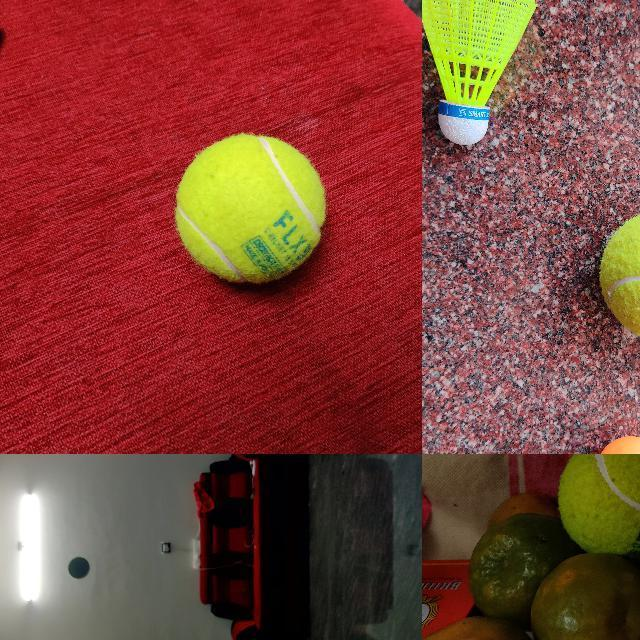tennis-ball: (174, 132, 326, 283), (557, 454, 639, 552), (598, 209, 639, 342), (68, 557, 90, 579)
